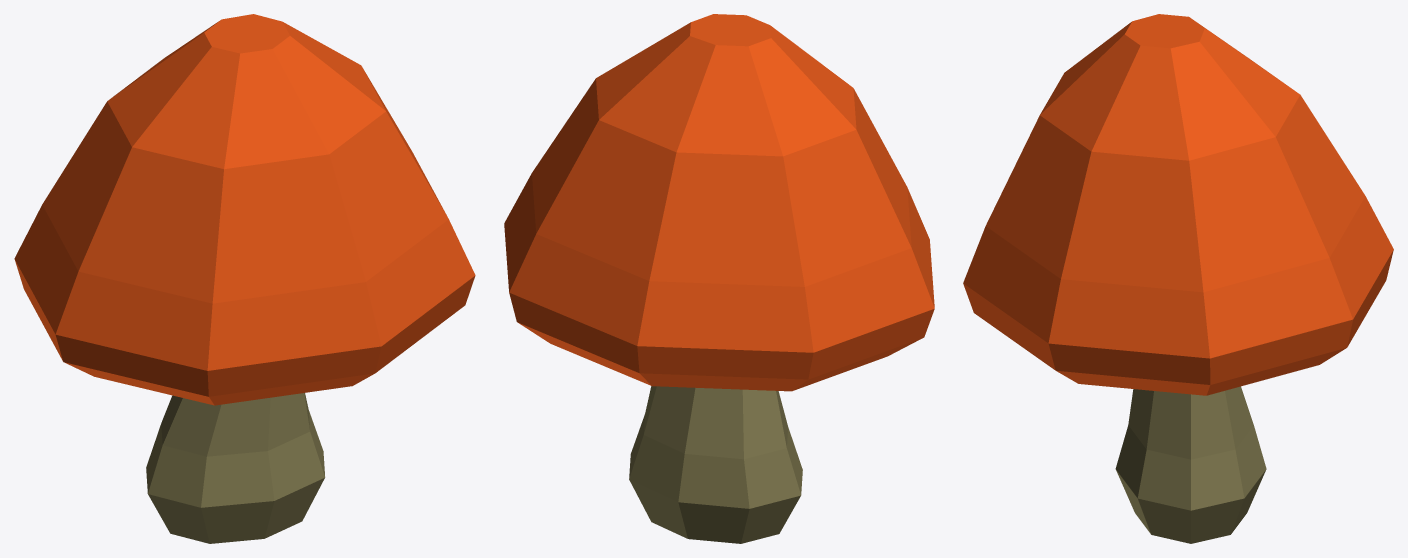
The model's file is red_mushroom.fbx.
3 views of the same model, side by side, from view 1: azimuth 30°, elevation 25°; view 2: azimuth 150°, elevation 25°; view 3: azimuth 270°, elevation 25° (orthographic). The views are drawn at different scales.
Parts seen in each view (by area): view 1: Circle; view 2: Circle; view 3: Circle.
Part boxes in pixels (bbox=[...]): Circle: bbox=[14, 14, 475, 543]; Circle: bbox=[504, 14, 934, 543]; Circle: bbox=[963, 14, 1393, 543].
Size of the model in its own units: 399 by 459 by 372.
